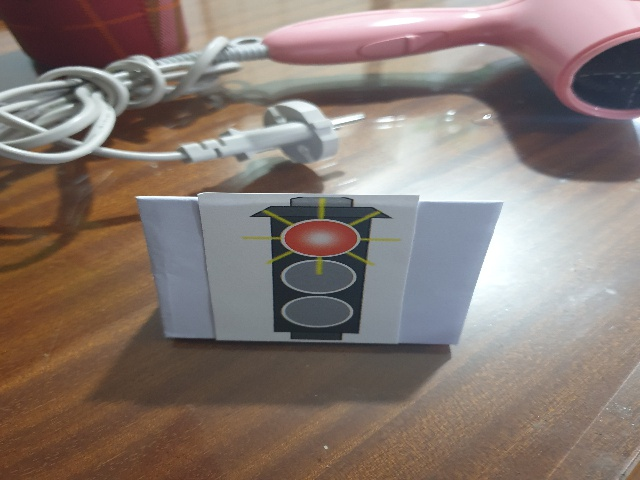Red Light: (235, 195, 403, 349)
